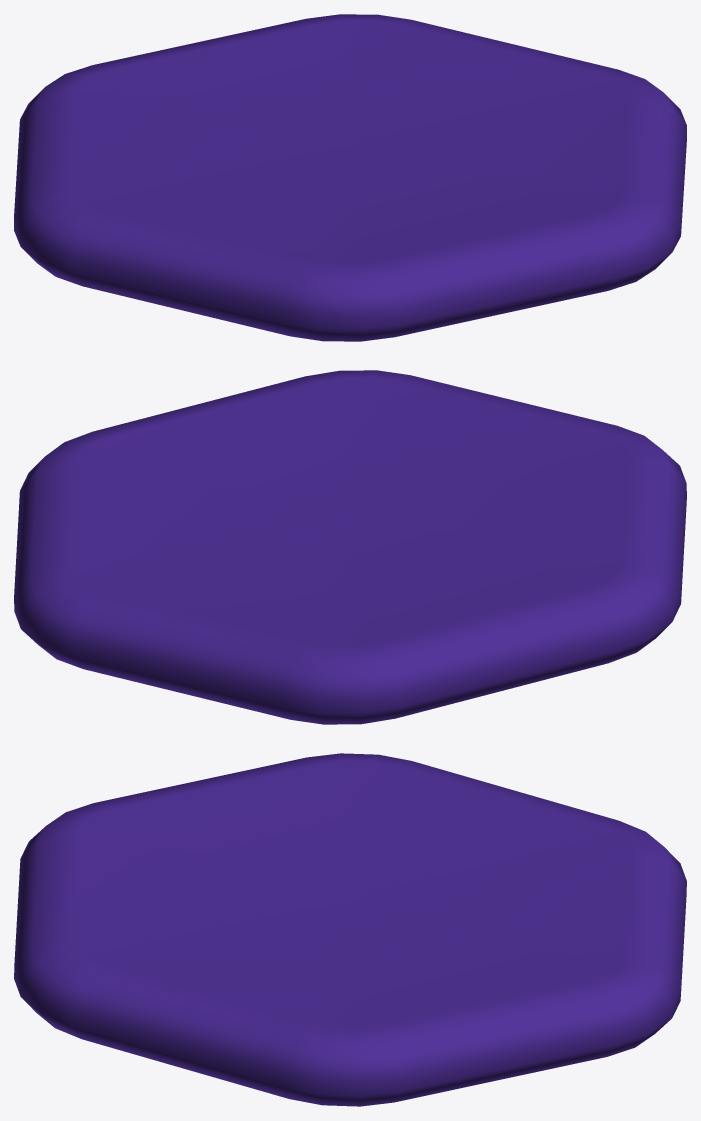
The model's file is purple tiles.fbx.
3 views of the same model, one above another, from view 1: azimuth 30°, elevation 25°; view 2: azimuth 150°, elevation 25°; view 3: azimuth 270°, elevation 25° (orthographic).
Visible parts, largest first — view 1: hexa_Tile_Lines.voilet; view 2: hexa_Tile_Lines.voilet; view 3: hexa_Tile_Lines.voilet.
Boxes of the visible parts, <box> form: hexa_Tile_Lines.voilet: <box>14,14,686,341</box>; hexa_Tile_Lines.voilet: <box>14,370,686,724</box>; hexa_Tile_Lines.voilet: <box>14,753,686,1106</box>.
Bounding box in the file's own units: 2.18 × 2.02 × 0.286.
